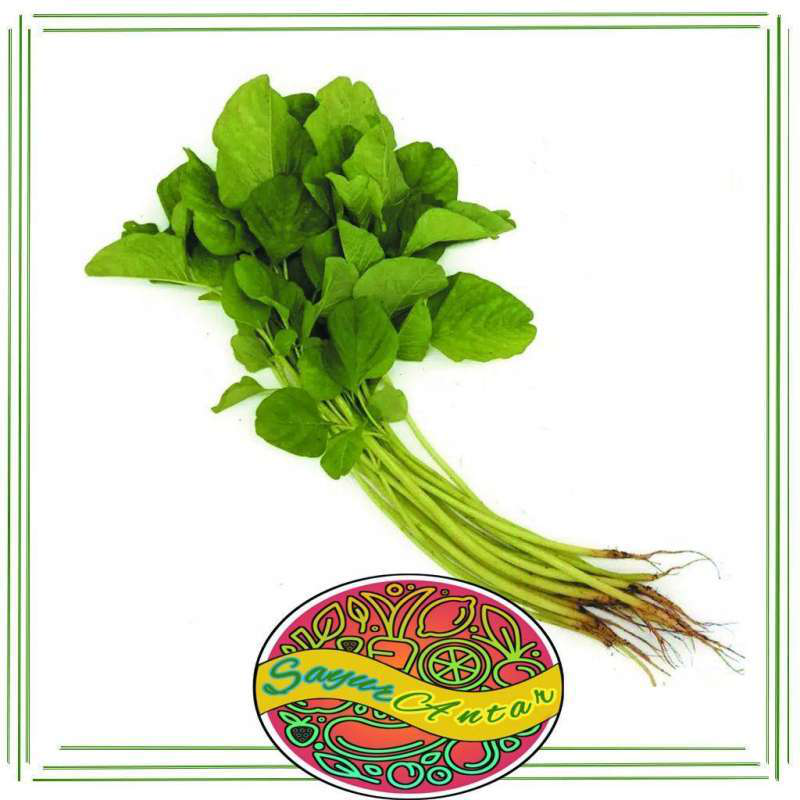Bayam: (93, 78, 728, 562)
